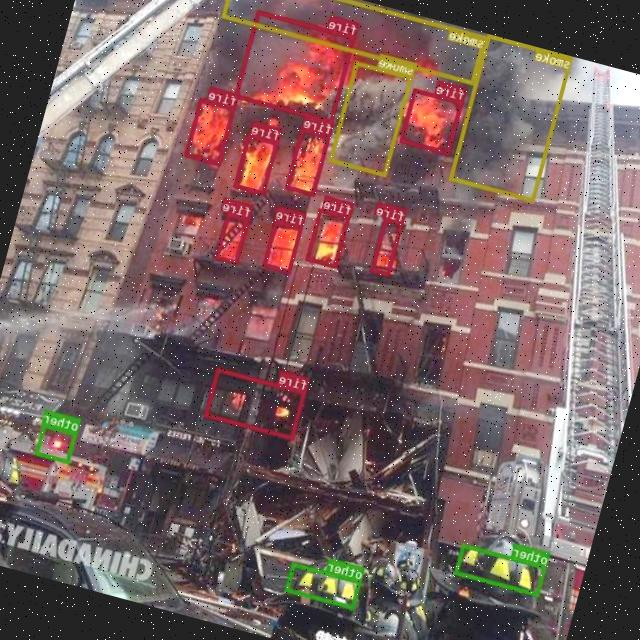fire: (235, 10, 356, 123), (205, 367, 307, 439), (400, 88, 463, 154), (184, 96, 237, 165), (285, 127, 331, 196), (234, 133, 279, 194), (306, 208, 351, 268), (263, 218, 304, 273), (371, 218, 404, 276), (215, 212, 249, 264)
smoke: (222, 0, 487, 85), (449, 34, 574, 202), (328, 60, 414, 176)
